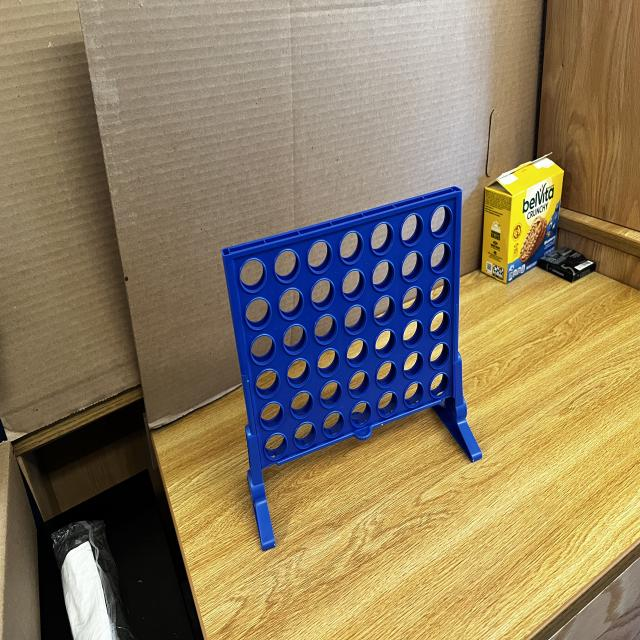Board: (225, 185, 462, 479)
